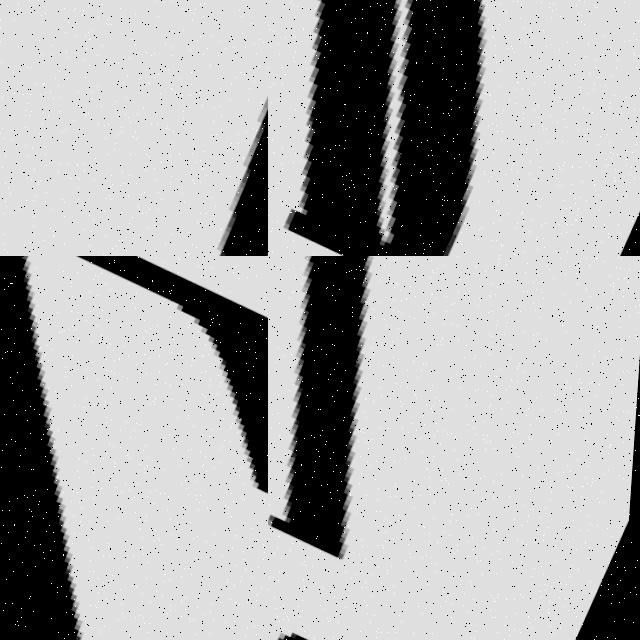1: (64, 0, 268, 256)
I: (268, 256, 549, 640)
P: (291, 0, 493, 256)
Z: (0, 256, 268, 640)
